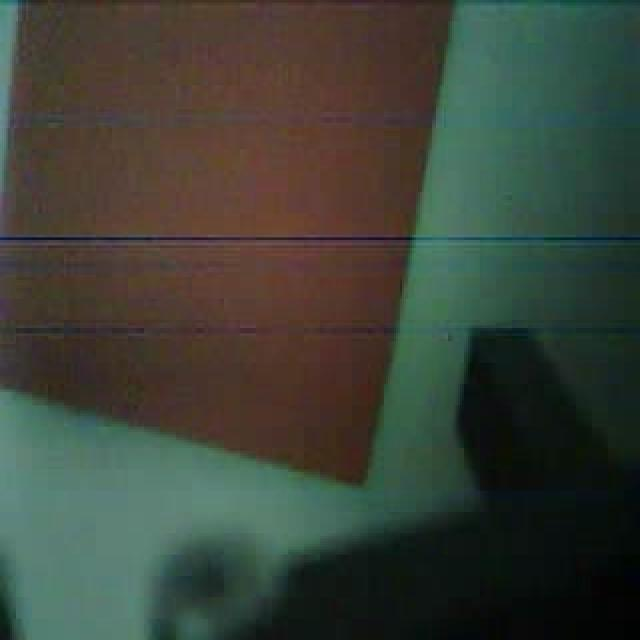red_box: (7, 4, 448, 492)
